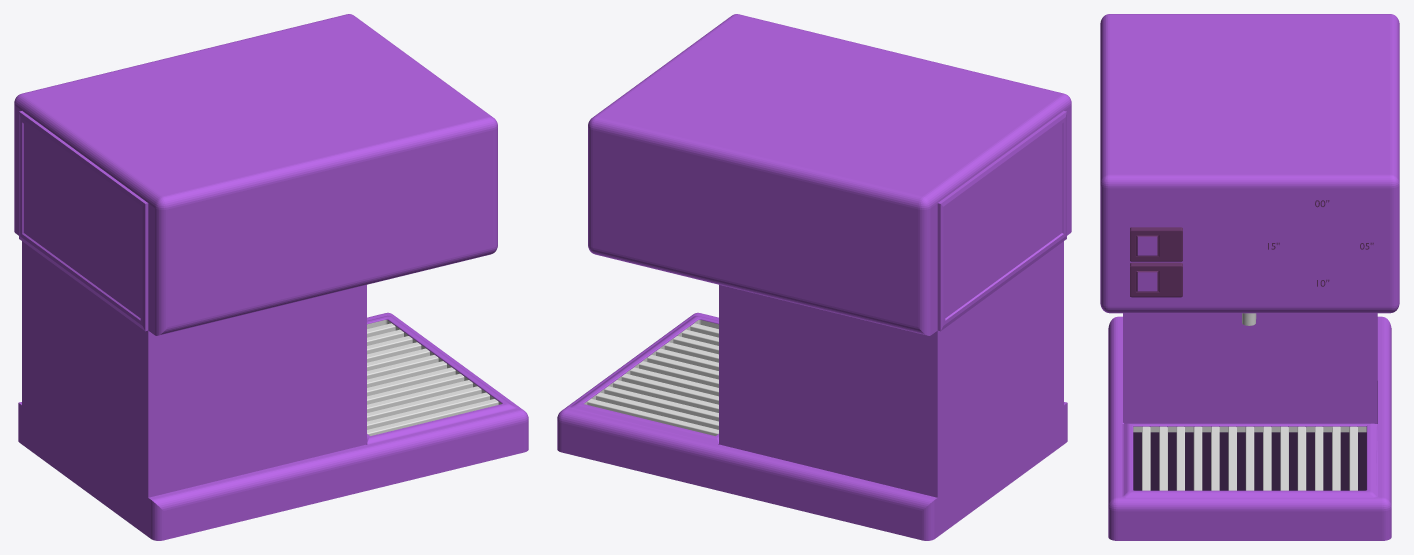
Rendered from CesarMiniGame Machine.fbx.
The picture shows the model from 3 angles, left to right: view 1: azimuth 30°, elevation 25°; view 2: azimuth 150°, elevation 25°; view 3: azimuth 270°, elevation 25°; orthographic projection.
Parts seen in each view (by area): view 1: Estructura; view 2: Estructura; view 3: Estructura.
Part boxes in pixels (bbox=[...]): Estructura: bbox=[14, 14, 528, 540]; Estructura: bbox=[557, 14, 1071, 540]; Estructura: bbox=[1100, 14, 1399, 540].
Bounding box in the file's own units: 767 × 662 × 520.
